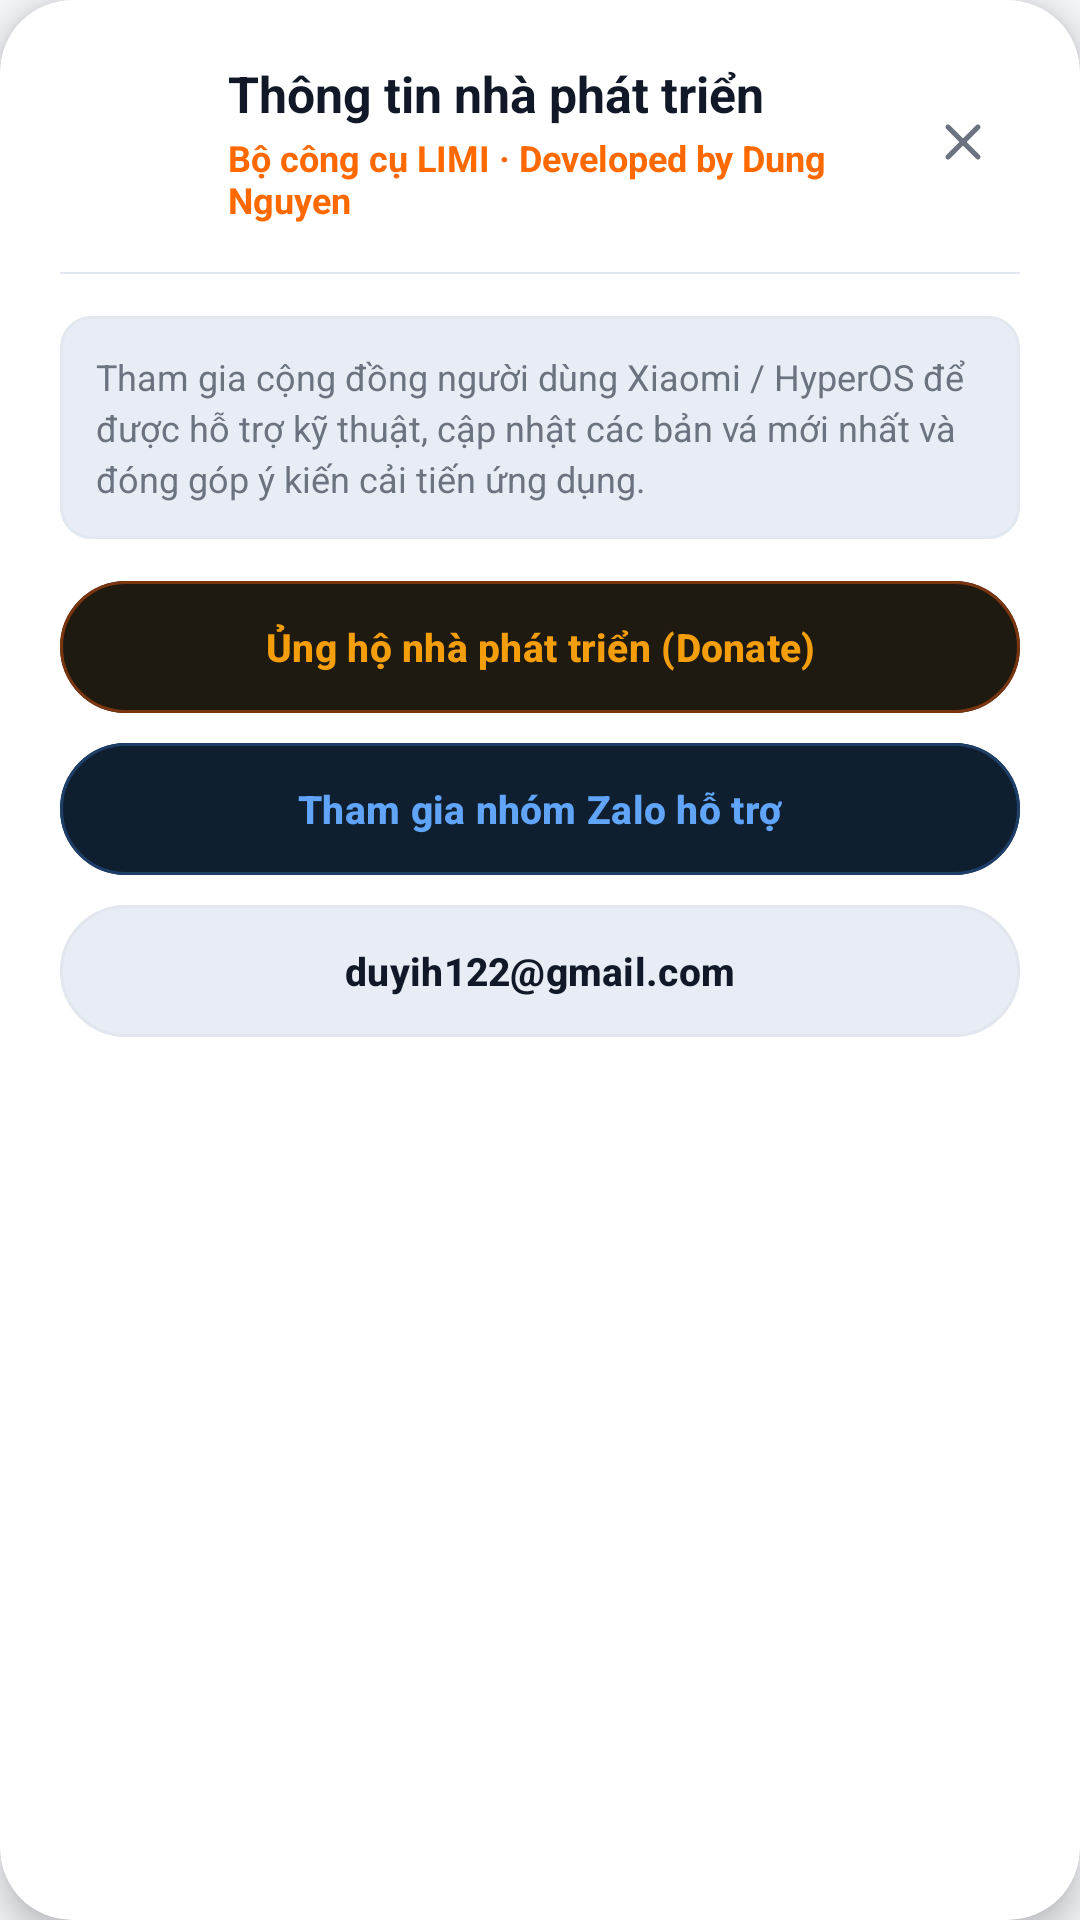

Screen size 1080 × 1920. Icon name, then its center in pixels as point (x, y):
close: point (963, 142)
